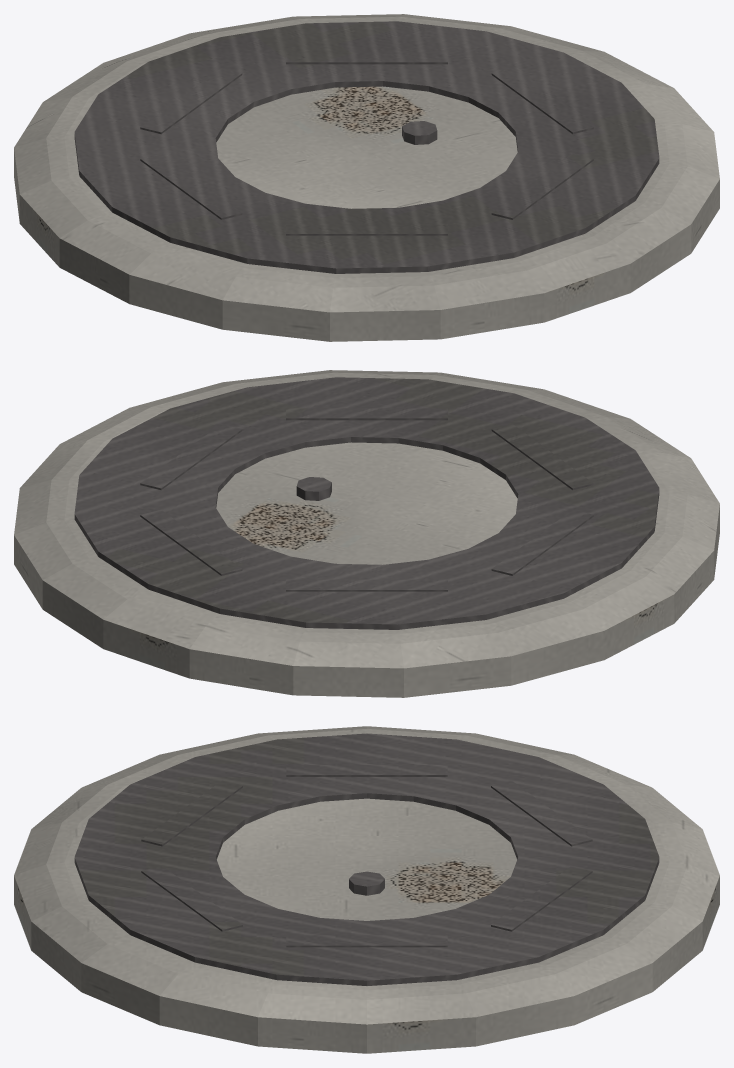
File: manhole_v2.glb
3 renders of one model, top to bottom at view 1: azimuth 30°, elevation 25°; view 2: azimuth 150°, elevation 25°; view 3: azimuth 270°, elevation 25°, orthographic.
Visible parts, largest first — view 1: Variant_manhole_2; view 2: Variant_manhole_2; view 3: Variant_manhole_2.
Boxes of the visible parts, left/top/right/bottom form: Variant_manhole_2: left=14, top=14, right=719, bottom=341; Variant_manhole_2: left=14, top=370, right=719, bottom=697; Variant_manhole_2: left=14, top=726, right=719, bottom=1053.
Size of the model in its own units: 0.7 by 0.056 by 0.7.
2 materials, 2 textured.
